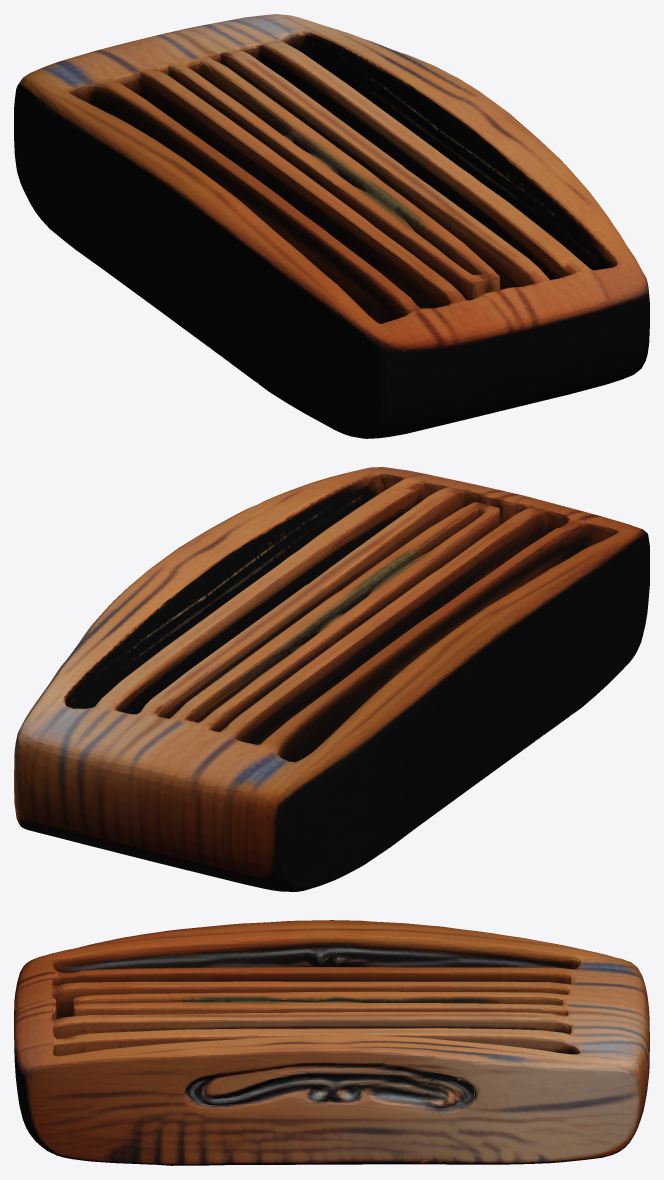
Rendered from wooden-beard-comb-rustic.jpeg.glb.
3 renders of one model, top to bottom at view 1: azimuth 30°, elevation 25°; view 2: azimuth 150°, elevation 25°; view 3: azimuth 270°, elevation 25°, orthographic. The views are drawn at different scales.
Visible parts, largest first — view 1: world; view 2: world; view 3: world.
Part boxes in pixels (x1=…): world: x1=14, y1=14, x2=649, y2=438; world: x1=14, y1=467, x2=649, y2=891; world: x1=14, y1=920, x2=649, y2=1165.
Bounding box in the file's own units: 0.4945 × 0.2074 × 0.9995.
1 material, 1 textured.
